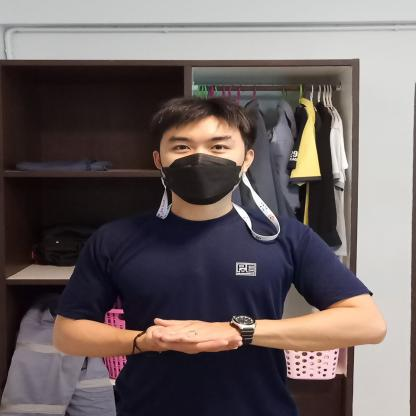Love: (107, 287, 300, 371)
